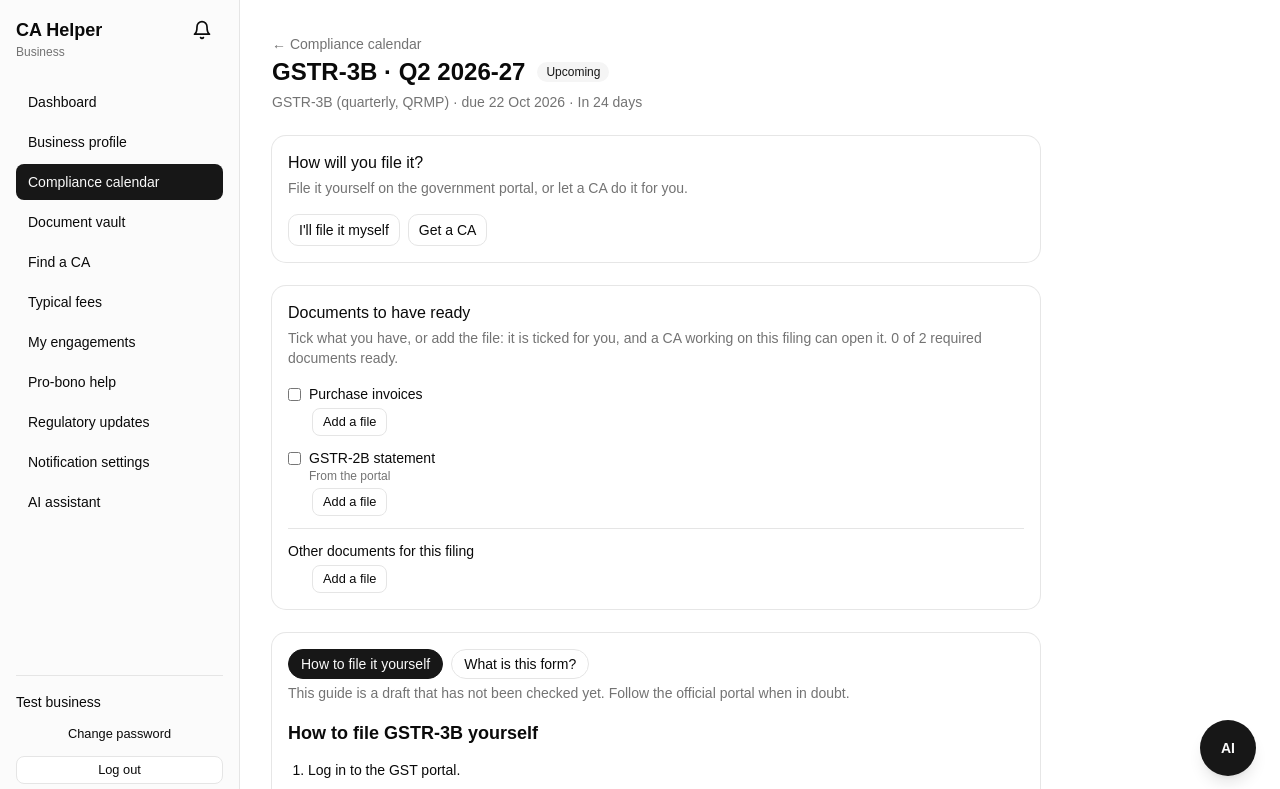
filing page › shows the filing, the steps to file it and that the guide is a draft
Check: the heading "GSTR-3B · Q2 2026-27 Upcoming" is shown, box [272,58,610,85]
Check: the text "GSTR-3B (quarterly, QRMP) · due 22 Oct 2026 · In 24 days" is shown, box [272,94,642,110]
Click the tab "What is this form?". click: (520, 664)
box: [451,649,589,679]
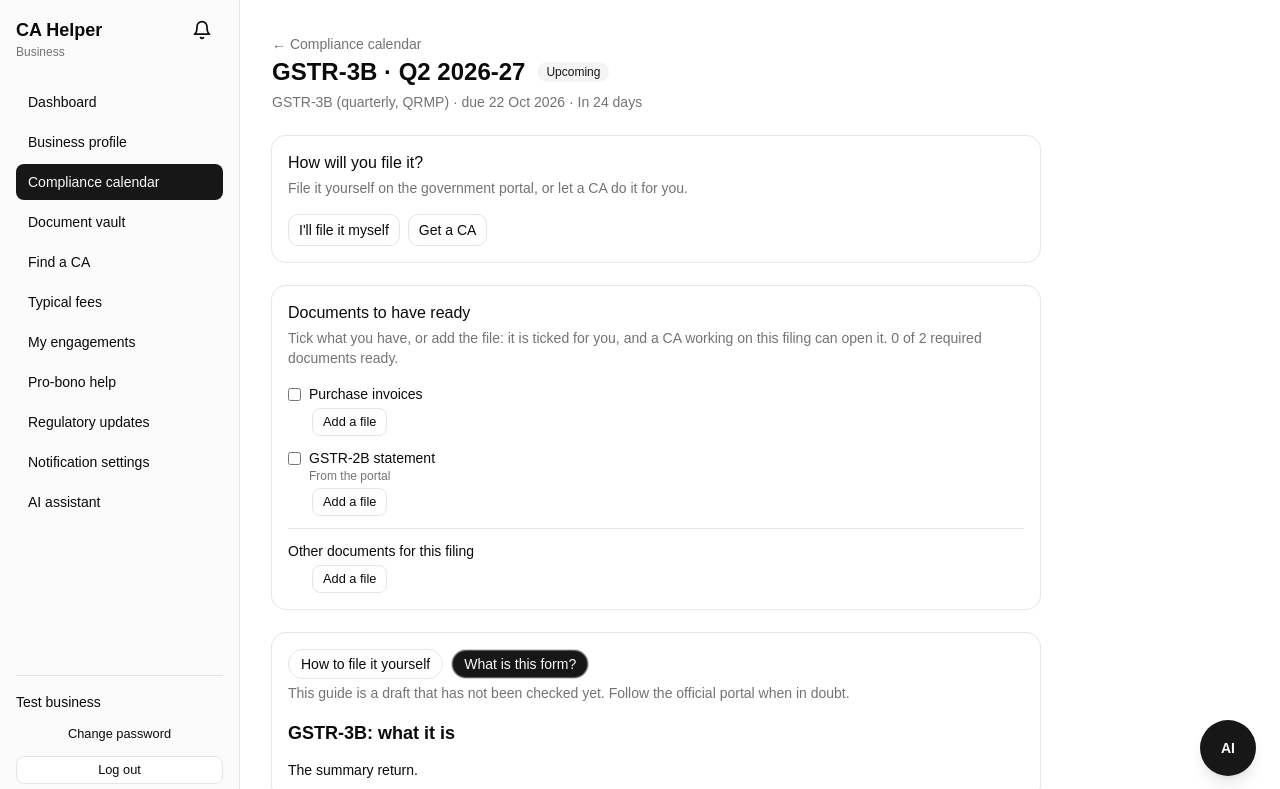
Check: the text "The summary return." is shown, box [288,762,418,778]
